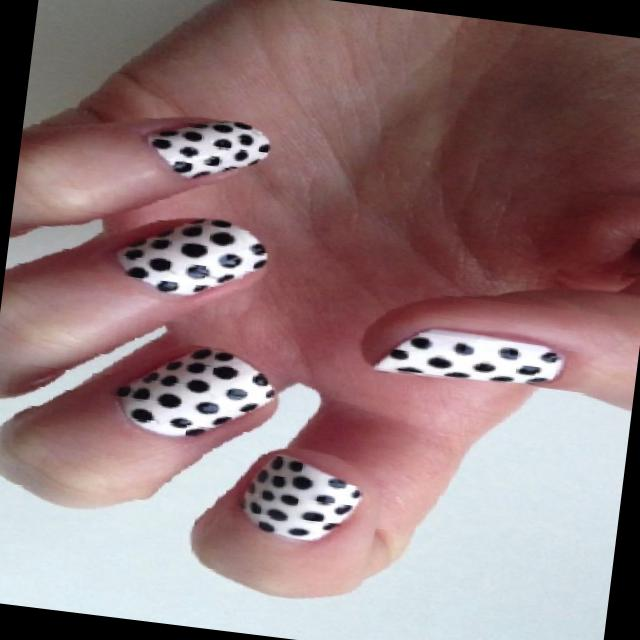Nail: (118, 348, 273, 435), (116, 219, 266, 294), (372, 328, 562, 383), (243, 454, 360, 540), (147, 120, 269, 177)
